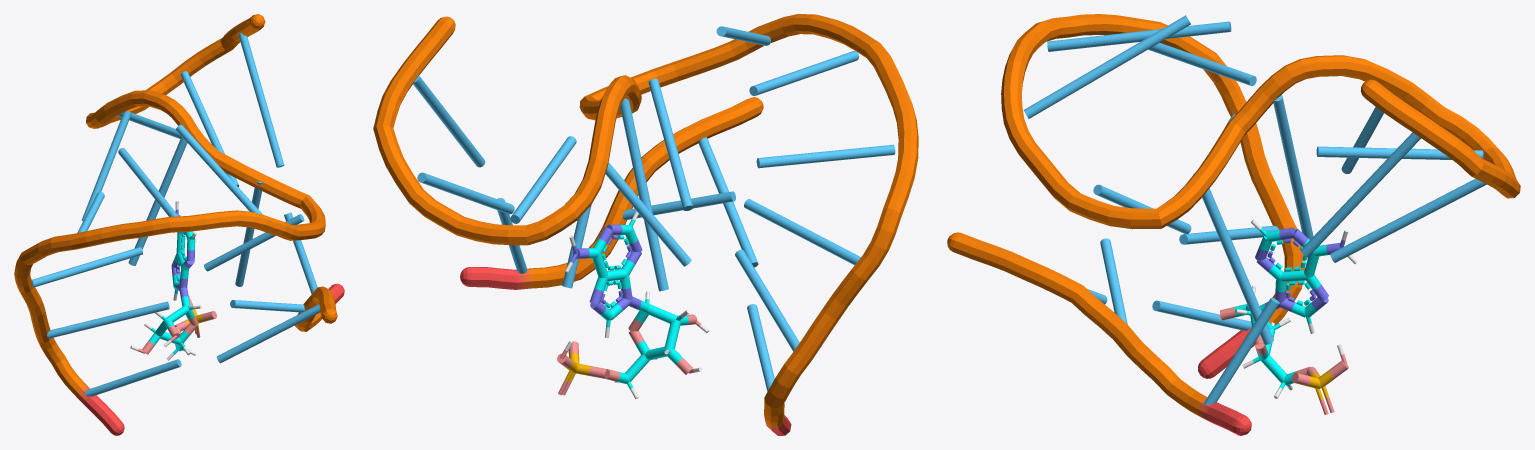
The model's file is Cartoon.fbx.
3 renders of one model, left to right at view 1: azimuth 30°, elevation 25°; view 2: azimuth 150°, elevation 25°; view 3: azimuth 270°, elevation 25°, orthographic. The views are drawn at different scales.
Parts seen in each view (by area): view 1: Shape_IndexedFaceSet, Shape_Cylinder.094, Shape_Cylinder.105, Shape_Cylinder.104, Shape_Cylinder.101, Shape_Cylinder.107, Shape_Cylinder.097, Shape_Cylinder.106, Shape_Cylinder.098, Shape_Cylinder.095, Shape_Cylinder.100, Shape_Cylinder.102 (+5 smaller); view 2: Shape_IndexedFaceSet, Shape_Cylinder.098, Shape_Cylinder.103, Shape_Cylinder.100, Shape_Cylinder.104, Shape_Cylinder.097, Shape_Cylinder.107, Shape_Cylinder.102, Shape_Cylinder.105, Shape_Cylinder.094, Shape_Cylinder.096, Shape_Cylinder.095 (+4 smaller); view 3: Shape_IndexedFaceSet, Shape_Cylinder.101, Shape_Cylinder.095, Shape_Cylinder.094, Shape_Cylinder.102, Shape_Cylinder.099, Shape_Cylinder.098, Shape_Cylinder.109, Shape_Cylinder.096, Shape_Cylinder.103, Shape_Cylinder.106, Shape_Cylinder.108 (+3 smaller).
Boxes of the visible parts, x1,y1,x2,y2 form: Shape_IndexedFaceSet: [14, 14, 344, 435]; Shape_Cylinder.094: [238, 33, 284, 167]; Shape_Cylinder.105: [47, 301, 169, 338]; Shape_Cylinder.104: [31, 247, 142, 287]; Shape_Cylinder.101: [176, 124, 262, 214]; Shape_Cylinder.107: [217, 304, 320, 363]; Shape_Cylinder.097: [81, 110, 131, 221]; Shape_Cylinder.106: [85, 359, 181, 396]; Shape_Cylinder.098: [128, 136, 187, 265]; Shape_Cylinder.095: [180, 71, 238, 186]; Shape_Cylinder.100: [204, 214, 304, 271]; Shape_Cylinder.102: [118, 148, 178, 216]; Shape_IndexedFaceSet: [373, 14, 918, 435]; Shape_Cylinder.098: [620, 98, 668, 291]; Shape_Cylinder.103: [756, 144, 895, 168]; Shape_Cylinder.100: [648, 78, 693, 210]; Shape_Cylinder.104: [744, 199, 860, 265]; Shape_Cylinder.097: [605, 162, 691, 266]; Shape_Cylinder.107: [698, 137, 758, 267]; Shape_Cylinder.102: [749, 51, 859, 95]; Shape_Cylinder.105: [735, 249, 799, 351]; Shape_Cylinder.094: [413, 75, 485, 167]; Shape_Cylinder.096: [510, 136, 576, 223]; Shape_Cylinder.095: [417, 172, 514, 214]; Shape_IndexedFaceSet: [947, 14, 1520, 435]; Shape_Cylinder.101: [1023, 15, 1190, 118]; Shape_Cylinder.095: [1330, 178, 1486, 262]; Shape_Cylinder.094: [1300, 132, 1420, 257]; Shape_Cylinder.102: [1047, 21, 1231, 51]; Shape_Cylinder.099: [1193, 173, 1273, 344]; Shape_Cylinder.098: [1273, 95, 1313, 239]; Shape_Cylinder.109: [1204, 297, 1279, 405]; Shape_Cylinder.096: [1316, 146, 1483, 159]; Shape_Cylinder.103: [1148, 43, 1256, 86]; Shape_Cylinder.106: [1152, 300, 1251, 330]; Shape_Cylinder.108: [1100, 238, 1127, 324].
Bounding box in the file's own units: 2385 × 2217 × 2699.
